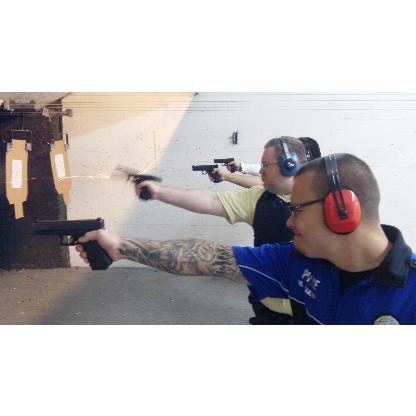gun: (31, 216, 112, 266), (114, 167, 162, 202), (190, 163, 220, 181), (212, 156, 235, 172)
